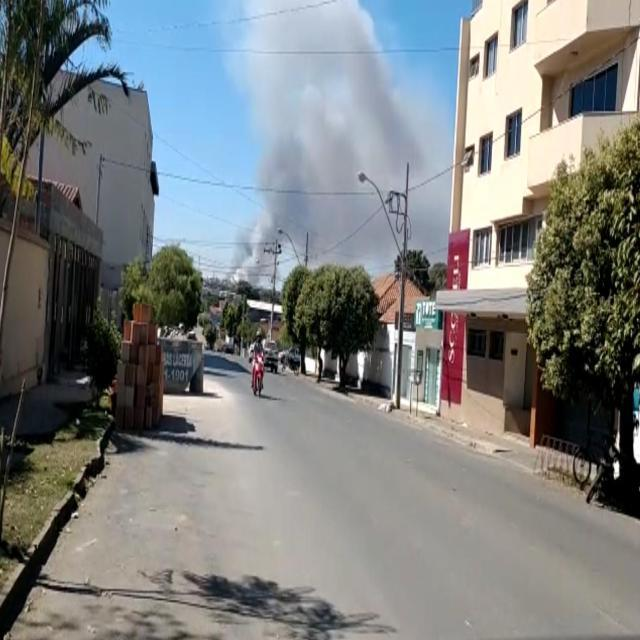Smoke: (221, 4, 437, 298)
